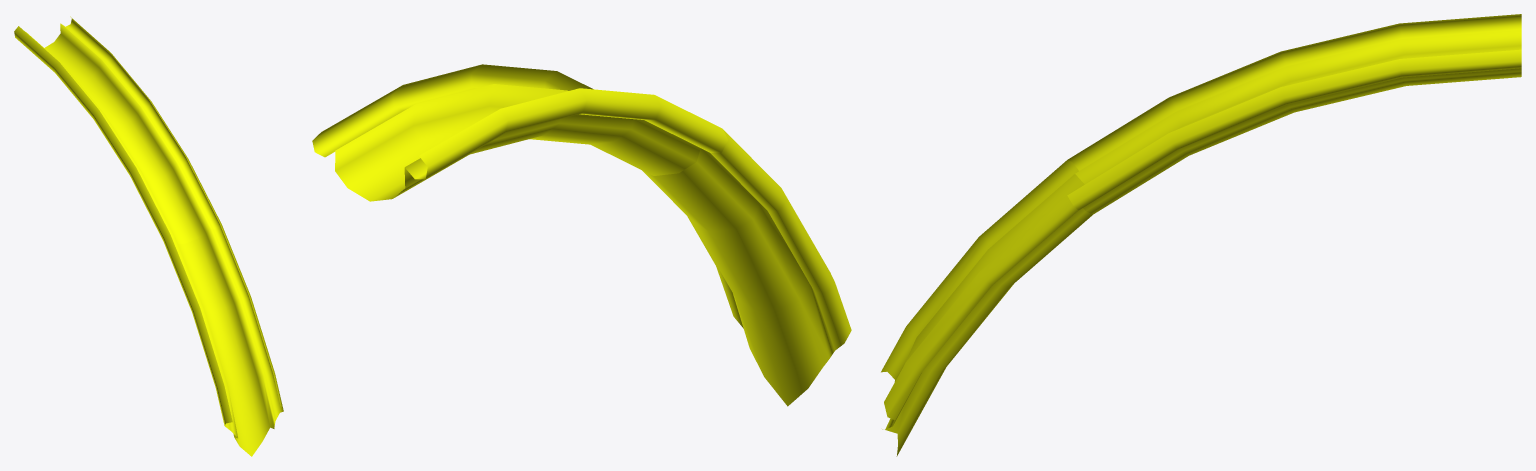
The model's file is Cath_Column_part3_arch.fbx.
3 views of the same model, side by side, from view 1: azimuth 30°, elevation 25°; view 2: azimuth 150°, elevation 25°; view 3: azimuth 270°, elevation 25° (orthographic). The views are drawn at different scales.
Parts seen in each view (by area): view 1: Cath_Column_part3_arch; view 2: Cath_Column_part3_arch; view 3: Cath_Column_part3_arch.
Boxes of the visible parts, left/top/right/bottom form: Cath_Column_part3_arch: left=14, top=16, right=283, bottom=456; Cath_Column_part3_arch: left=312, top=64, right=851, bottom=406; Cath_Column_part3_arch: left=881, top=14, right=1521, bottom=456.
Bounding box in the file's own units: 77.59 × 365 × 499.
